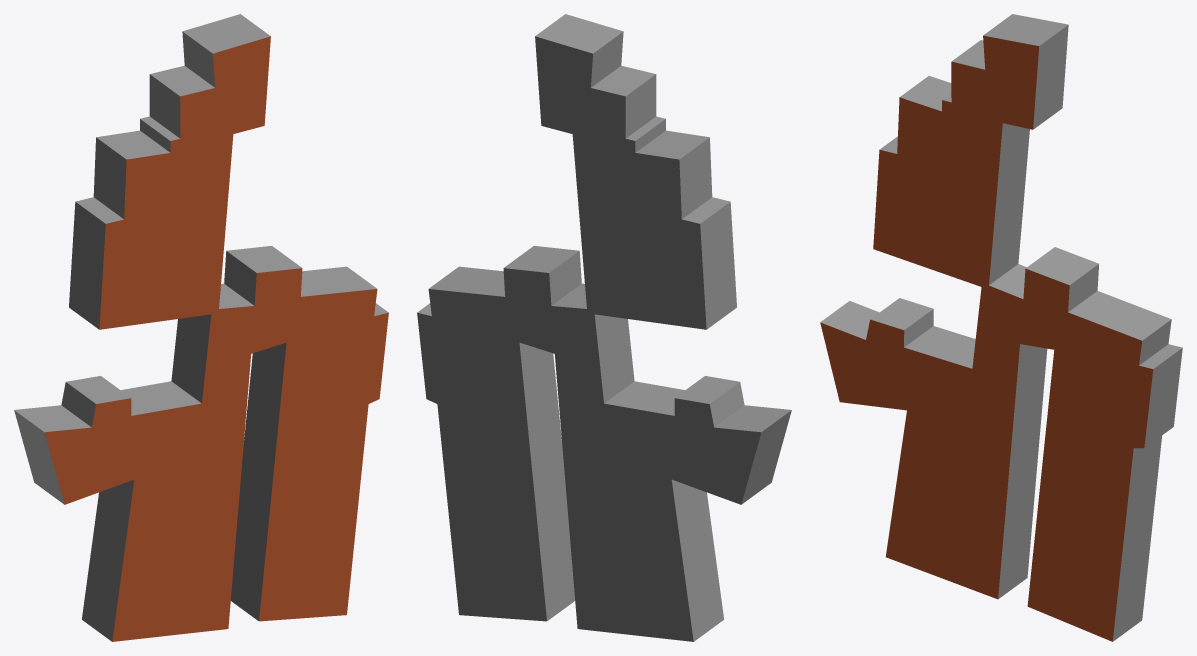
Rendered from construction_2945_assumed_A_Casa_h6m.obj.
The picture shows the model from 3 angles, left to right: view 1: azimuth 30°, elevation 25°; view 2: azimuth 150°, elevation 25°; view 3: azimuth 330°, elevation 25°; orthographic projection. The views are drawn at different scales.
Visible parts, largest first — view 1: construction_2945_assumed_A_Casa; view 2: construction_2945_assumed_A_Casa; view 3: construction_2945_assumed_A_Casa.
Part boxes in pixels (x1,y1,x2,y2): construction_2945_assumed_A_Casa: (14,14,388,641); construction_2945_assumed_A_Casa: (417,14,791,641); construction_2945_assumed_A_Casa: (820,14,1182,641).
Bounding box in the file's own units: 39.14 × 64.87 × 6.
